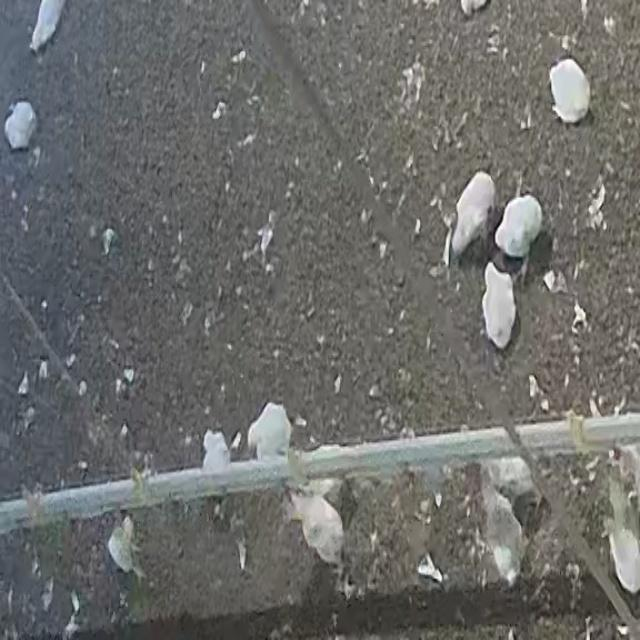chicken: (478, 476, 524, 588), (284, 487, 344, 567), (497, 190, 546, 280), (452, 173, 494, 253), (482, 262, 514, 353), (548, 59, 590, 128), (245, 401, 292, 462), (606, 520, 640, 593), (28, 0, 70, 51), (199, 428, 236, 479), (3, 99, 37, 150)
